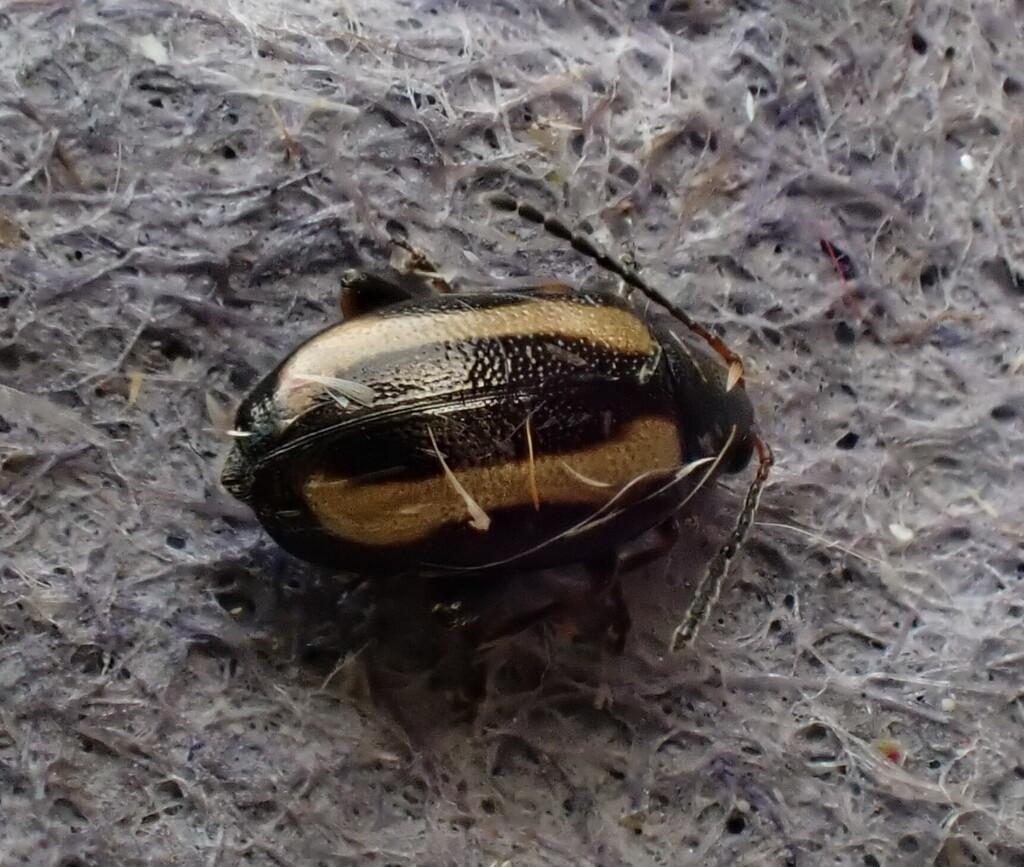flea_beetle: (133, 158, 911, 705)
